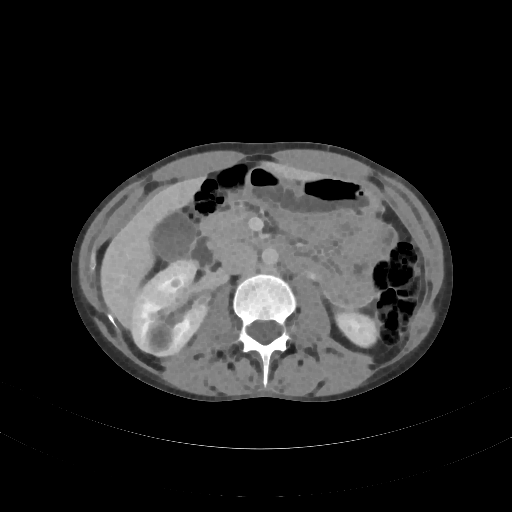Lesion: (164, 277, 184, 293)
